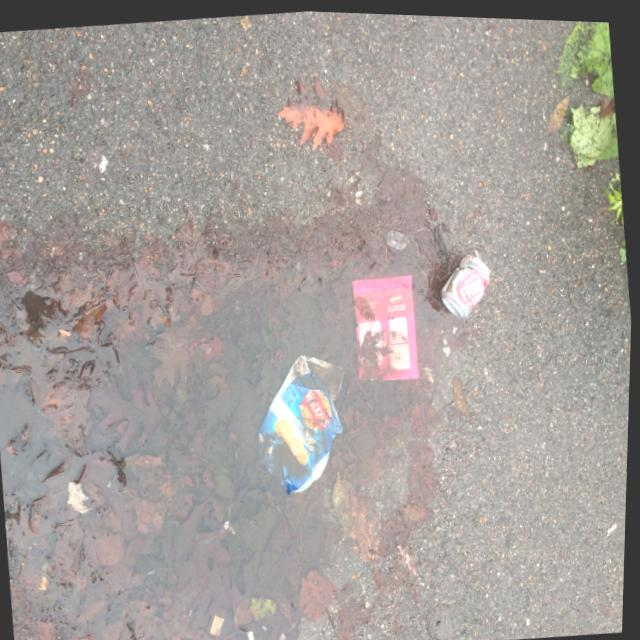Can-Metal: (432, 241, 504, 331)
Plastic: (243, 341, 366, 504), (345, 261, 428, 385)
